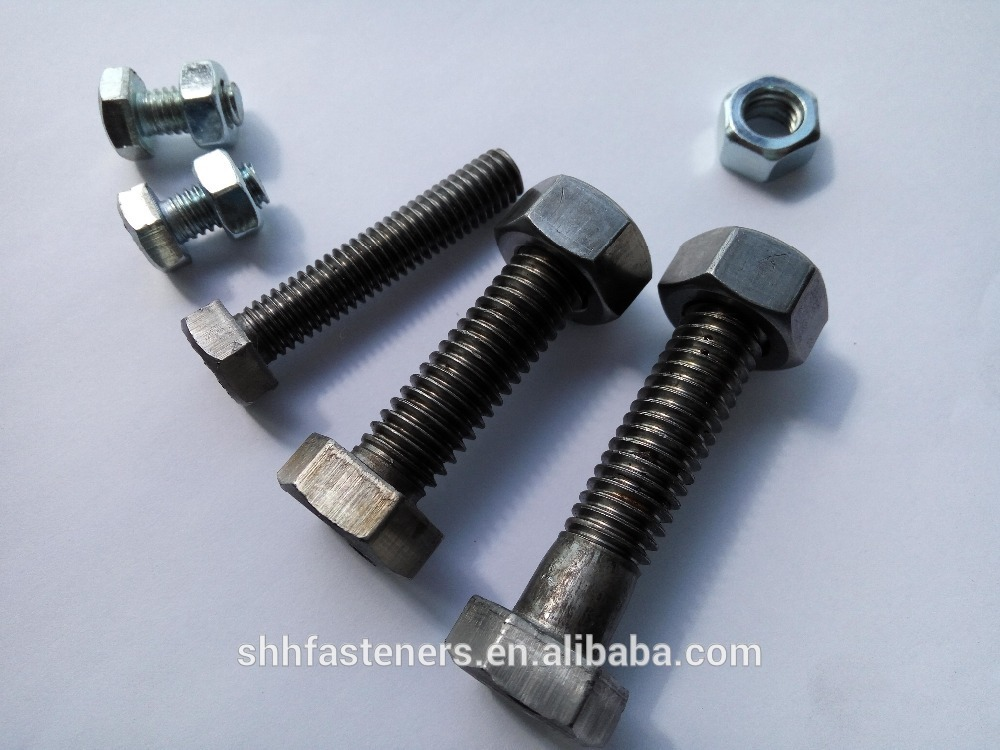screw: (443, 224, 830, 750), (272, 175, 654, 587), (181, 148, 524, 407)
